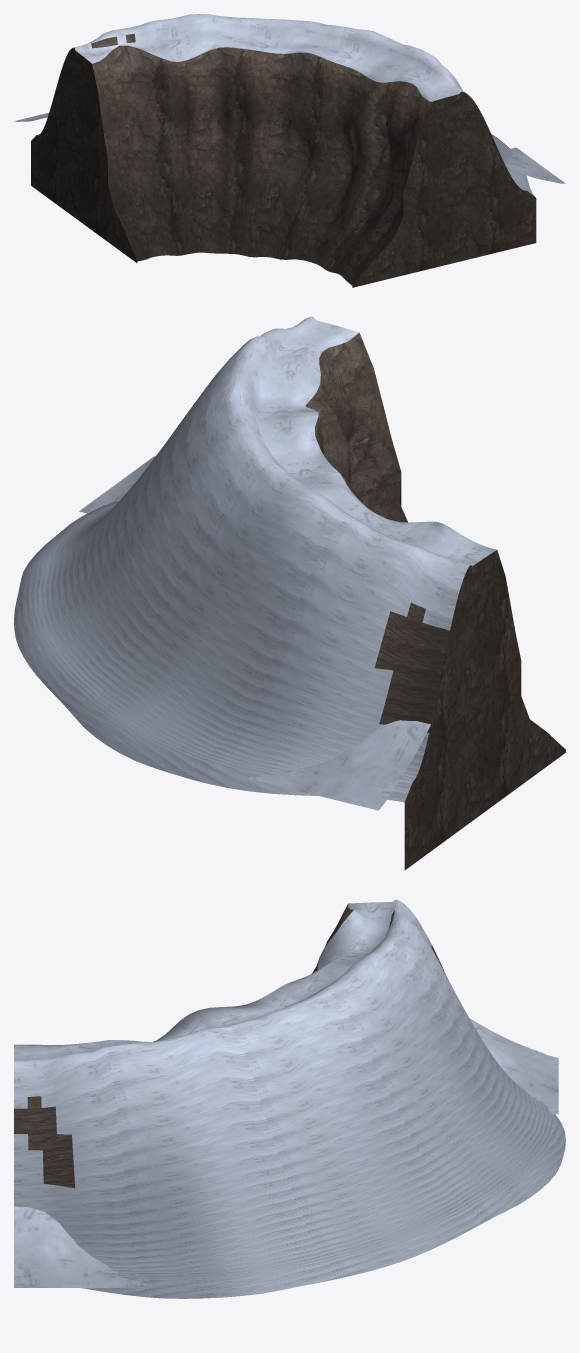
Rendered from seacliff_inner_h3_v5_winter.glb.
The picture shows the model from 3 angles, top to bottom: view 1: azimuth 30°, elevation 25°; view 2: azimuth 150°, elevation 25°; view 3: azimuth 270°, elevation 25°; orthographic projection. The views are drawn at different scales.
Visible parts, largest first — view 1: seacliff_inner_h3; view 2: seacliff_inner_h3; view 3: seacliff_inner_h3.
Part boxes in pixels (box(x1,y1,x2,y2)): seacliff_inner_h3: box(14, 14, 565, 287); seacliff_inner_h3: box(14, 316, 565, 870); seacliff_inner_h3: box(14, 899, 565, 1298).
Bounding box in the file's own units: 9.83 × 4.92 × 9.91.
2 materials, 2 textured.
